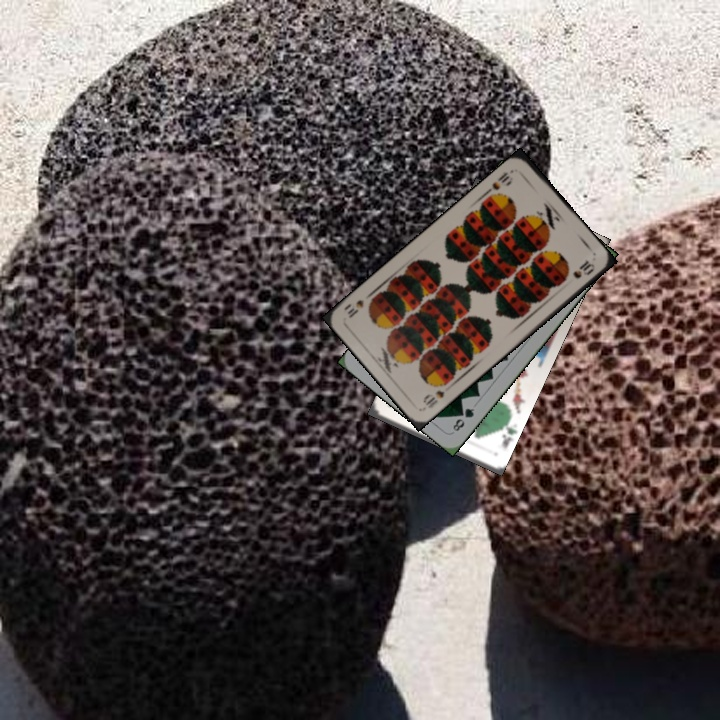G8: (448, 404, 477, 434)
GK: (496, 417, 518, 451)
S10: (488, 165, 516, 193), (419, 386, 447, 411)
